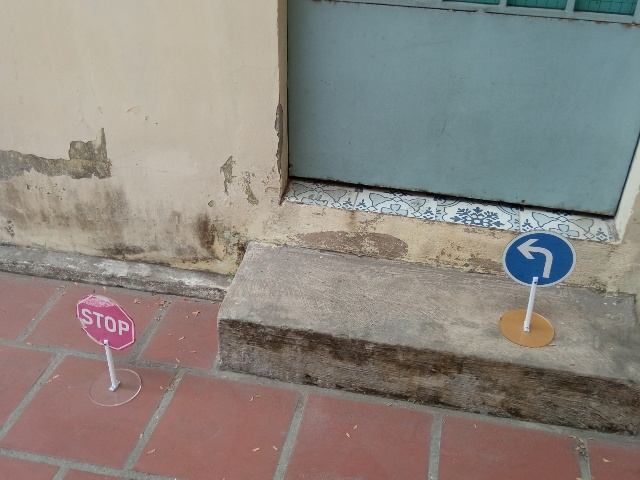Left_Sign: (503, 230, 577, 288)
Stop_Sign: (76, 294, 137, 350)
